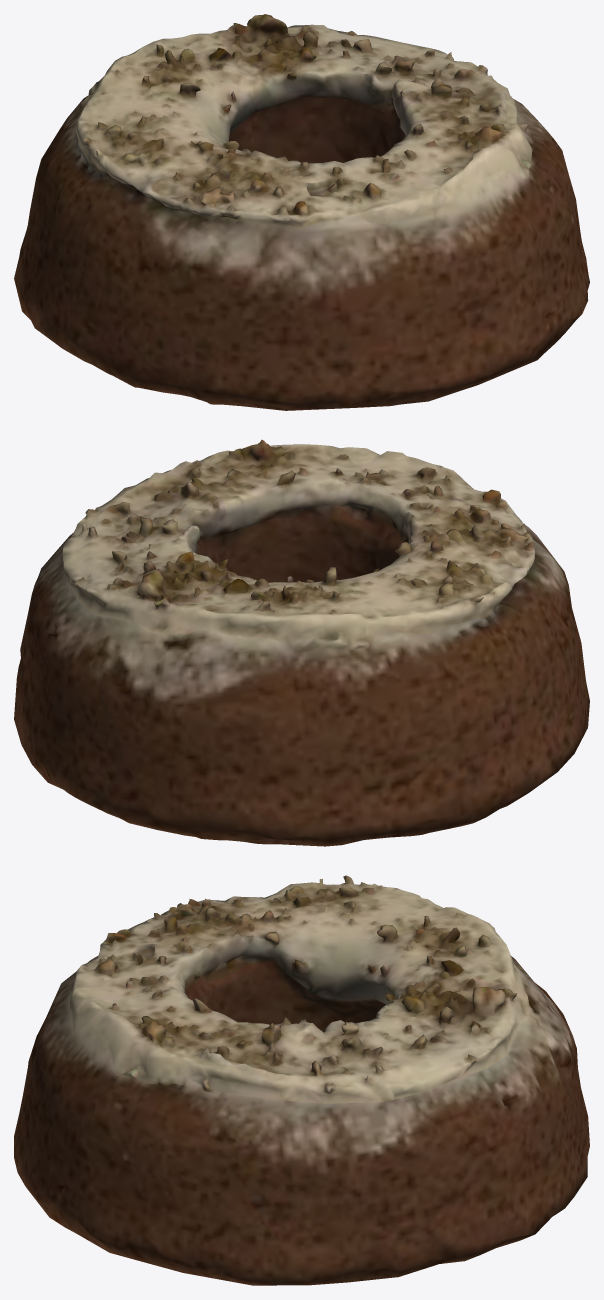
Rendered from carrot_cake.glb.
The picture shows the model from 3 angles, top to bottom: view 1: azimuth 30°, elevation 25°; view 2: azimuth 150°, elevation 25°; view 3: azimuth 270°, elevation 25°; orthographic projection. The views are drawn at different scales.
Visible parts, largest first — view 1: carrot_cake; view 2: carrot_cake; view 3: carrot_cake.
Boxes of the visible parts, left/top/right/bottom form: carrot_cake: left=14, top=14, right=589, bottom=410; carrot_cake: left=14, top=439, right=589, bottom=846; carrot_cake: left=14, top=875, right=589, bottom=1285.
Bounding box in the file's own units: 0.2254 × 0.0976 × 0.2254.
Materials: 1 (1 with a texture image).
